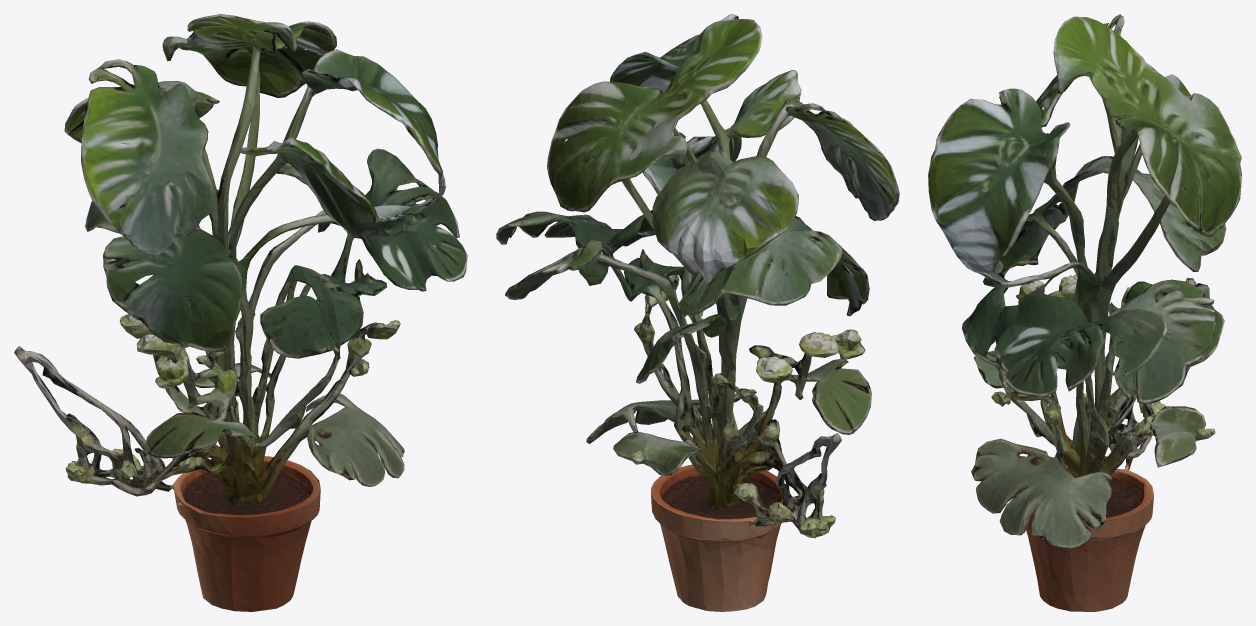
3 renders of one model, left to right at view 1: azimuth 30°, elevation 25°; view 2: azimuth 150°, elevation 25°; view 3: azimuth 270°, elevation 25°, orthographic. The views are drawn at different scales.
Parts seen in each view (by area): view 1: world; view 2: world; view 3: world.
Part boxes in pixels (box(x1,y1,x2,y2)): world: box(14, 14, 467, 611); world: box(496, 14, 899, 611); world: box(928, 14, 1241, 611).
Bounding box in the file's own units: 0.6821 × 1 × 0.5058.
1 material, 1 textured.
